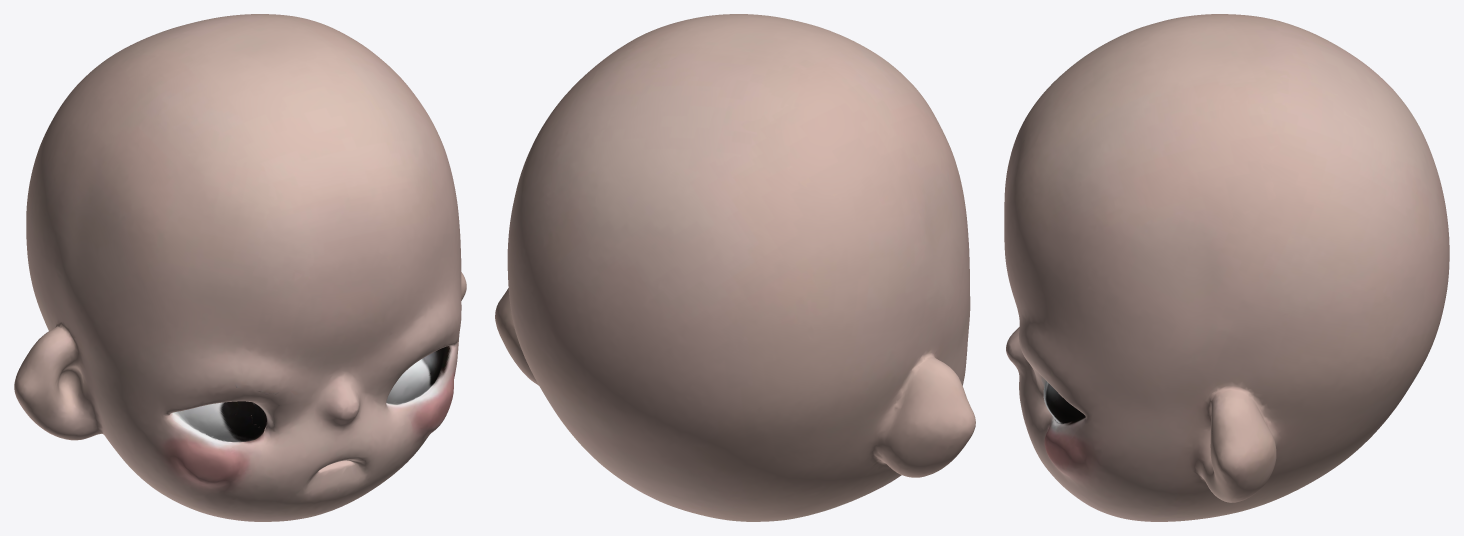
The model's file is Hirono KeyChain model.glb.
The picture shows the model from 3 angles, left to right: view 1: azimuth 30°, elevation 25°; view 2: azimuth 150°, elevation 25°; view 3: azimuth 270°, elevation 25°; orthographic projection. The views are drawn at different scales.
Visible parts, largest first — view 1: geometry_0.004; view 2: geometry_0.004; view 3: geometry_0.004.
Boxes of the visible parts, x1,y1,x2,y2 form: geometry_0.004: (14,14,466,521); geometry_0.004: (495,14,975,521); geometry_0.004: (1004,14,1449,521).
Bounding box in the file's own units: 0.4422 × 0.4207 × 0.37.
Materials: 1 (1 with a texture image).
